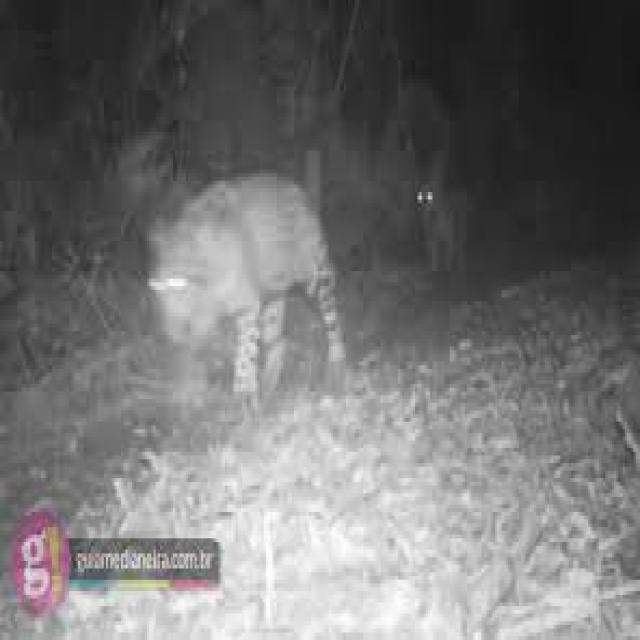Jaguar: (147, 169, 346, 403), (413, 173, 484, 275)
